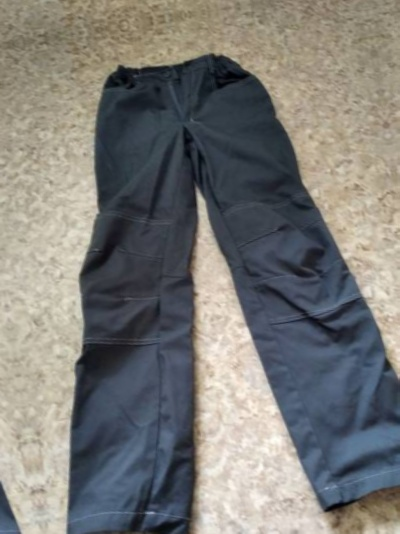Pants: (0, 18, 400, 534), (0, 85, 45, 534), (380, 0, 400, 512), (0, 0, 347, 20)
